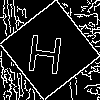H: (25, 25, 67, 75)
